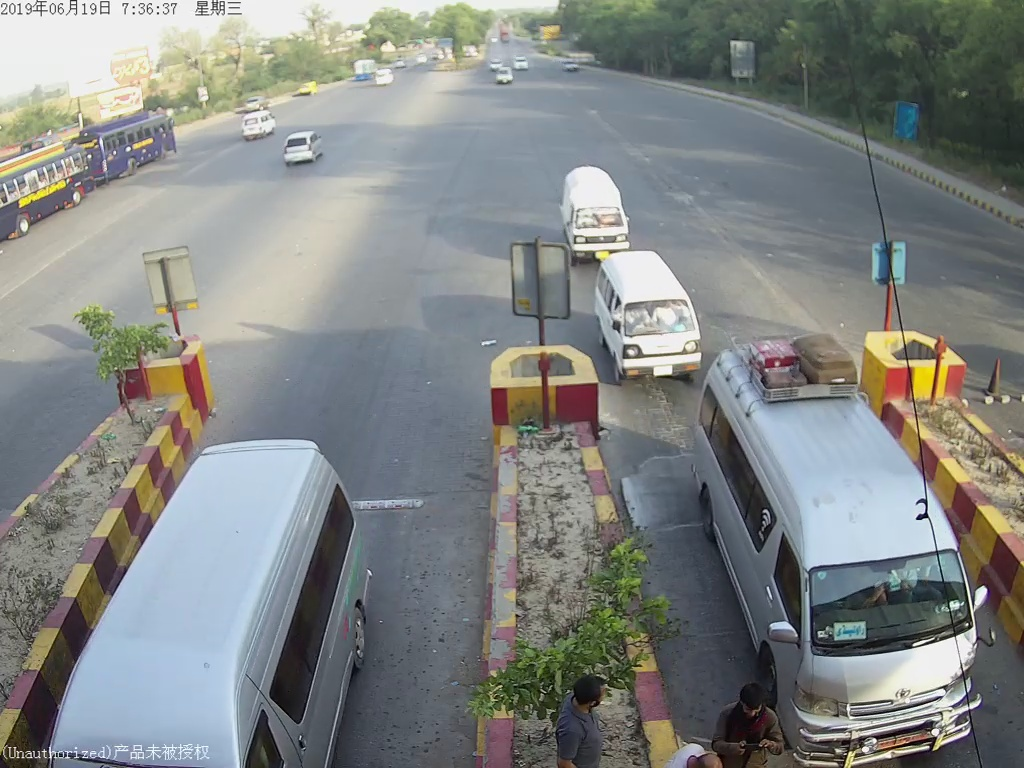Cat-1: (595, 251, 707, 387), (558, 162, 632, 262)
Cat-2: (695, 338, 982, 762)
